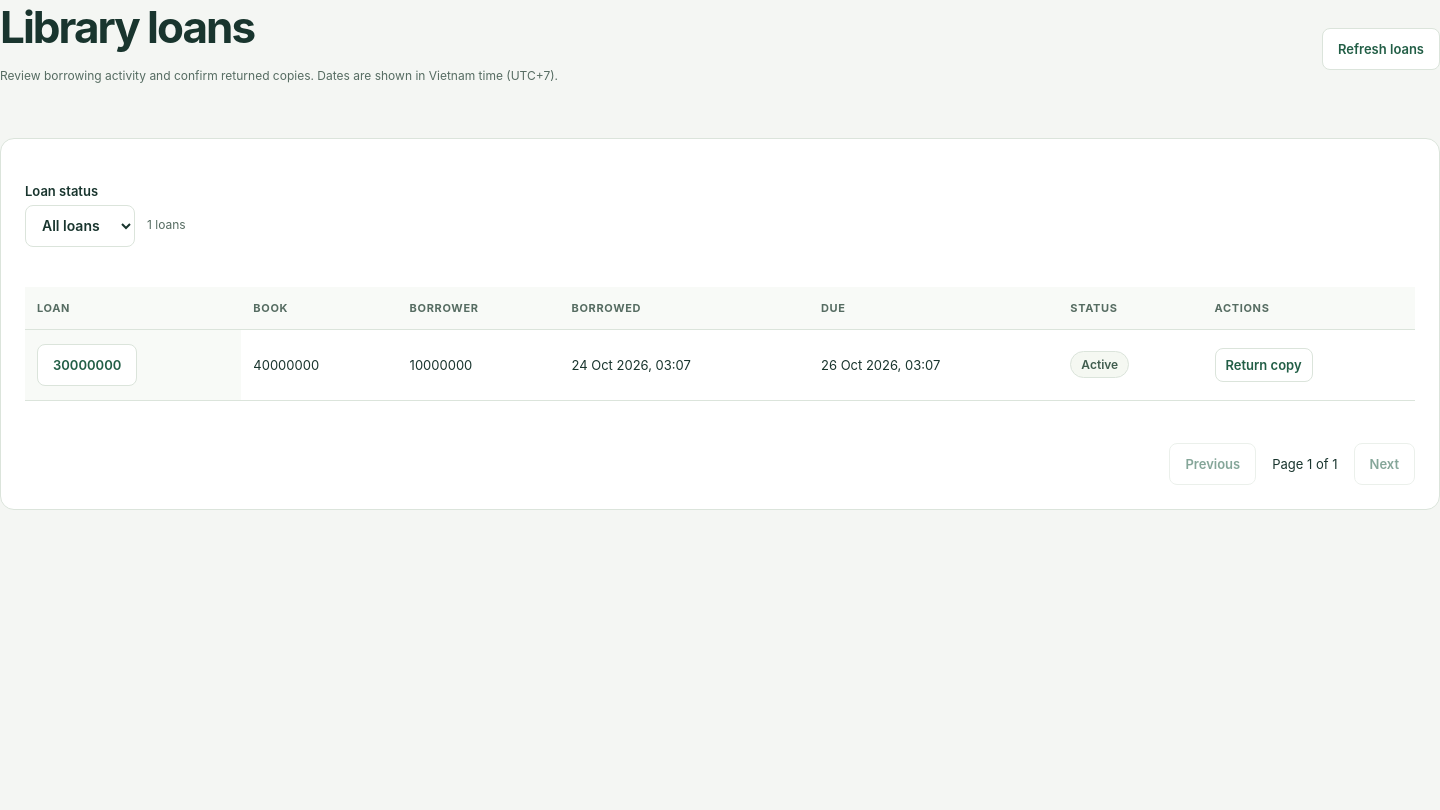
Test case: loan history › confirms a staff return once, submits exactly {} and refreshes the result
What coordinates should you click on to do the following:
click the button with aria-label "Return loan 30000000"
I would click on:
 (1264, 365)
Its box is [1214,348,1313,382].
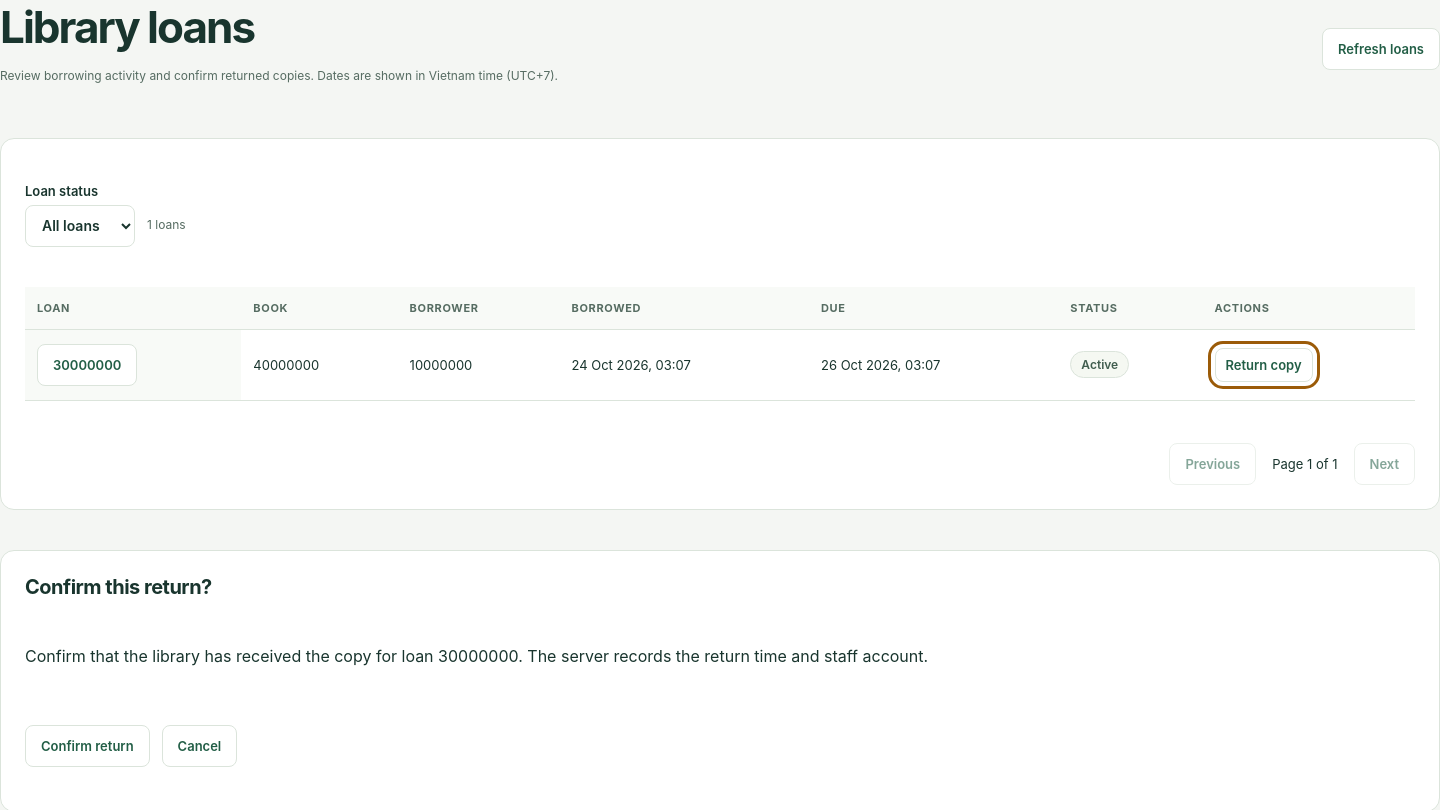
Now the heading "Confirm this return?" is shown, box [25,575,212,599]
What coordinates should you click on to do the following:
click the button "Confirm return"
I would click on:
 (87, 746)
Its box is [25,725,150,767].
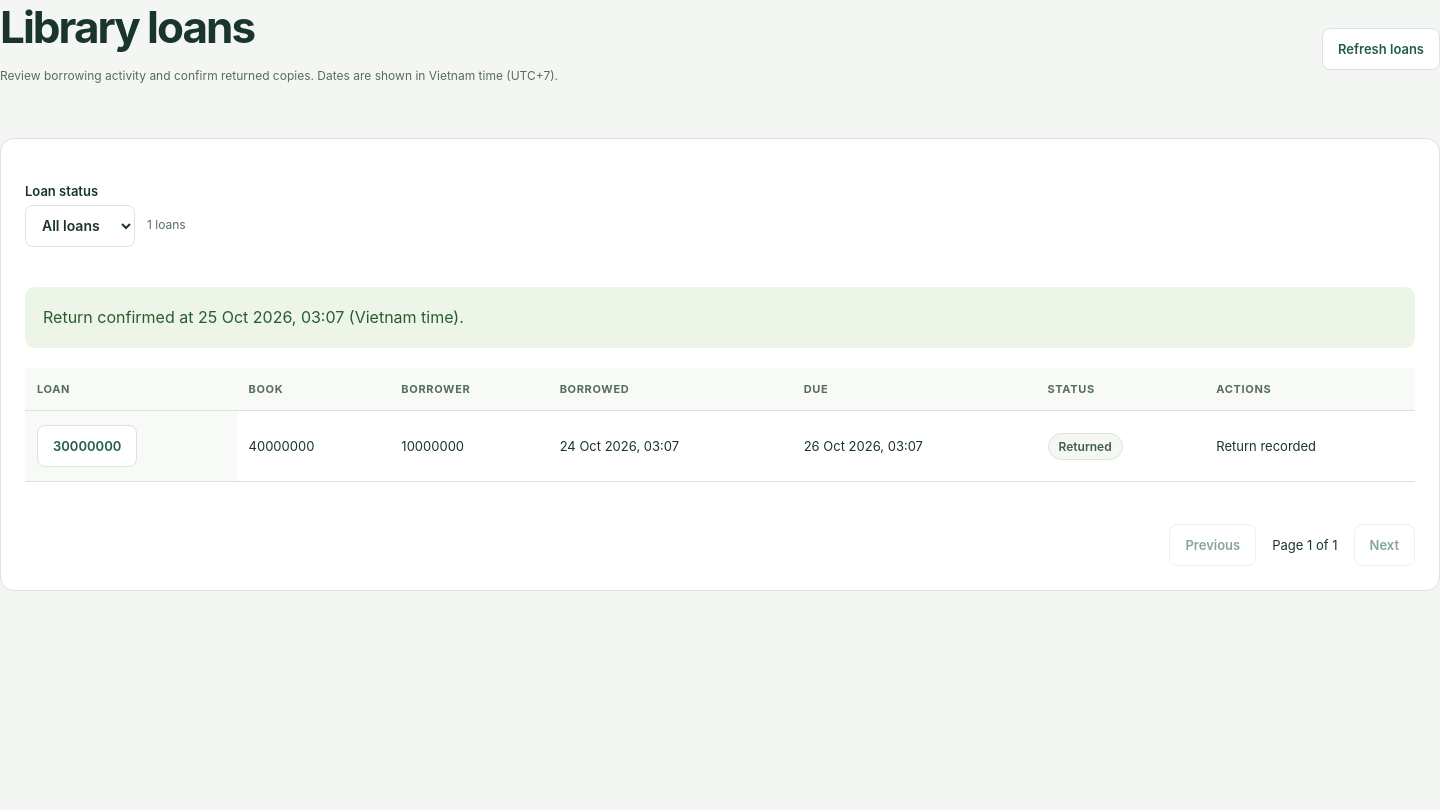
Now the text "Return recorded" is shown, box [1204,411,1415,482]
